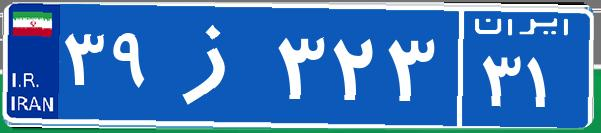1: (525, 38, 570, 115)
2: (330, 28, 385, 110)
3: (385, 28, 445, 110), (273, 28, 330, 110), (57, 26, 110, 107), (475, 38, 525, 113)
9: (110, 28, 158, 105)
ز: (158, 15, 273, 115)
